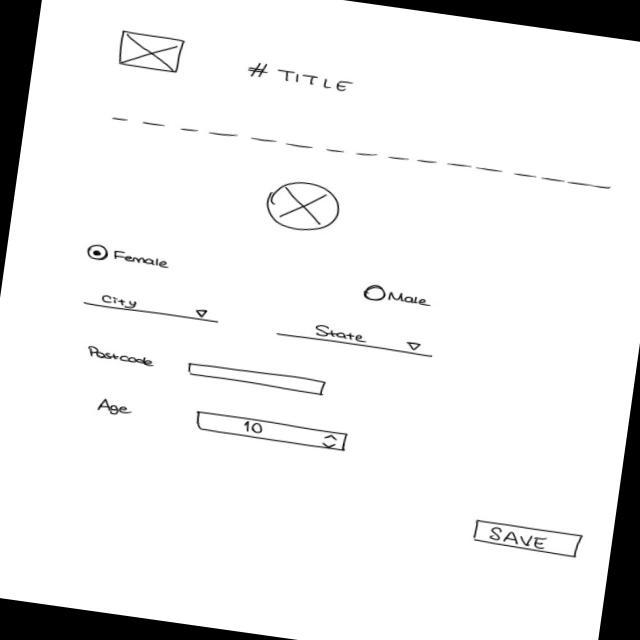button: (471, 518, 587, 562)
image: (263, 177, 346, 238), (116, 30, 188, 77)
input: (186, 361, 330, 399)
label: (245, 61, 359, 97), (86, 343, 159, 370), (94, 396, 138, 420)
number-input: (192, 410, 352, 455)
radio: (83, 242, 175, 274), (362, 284, 440, 312)
select: (275, 319, 438, 360), (83, 290, 224, 327)
